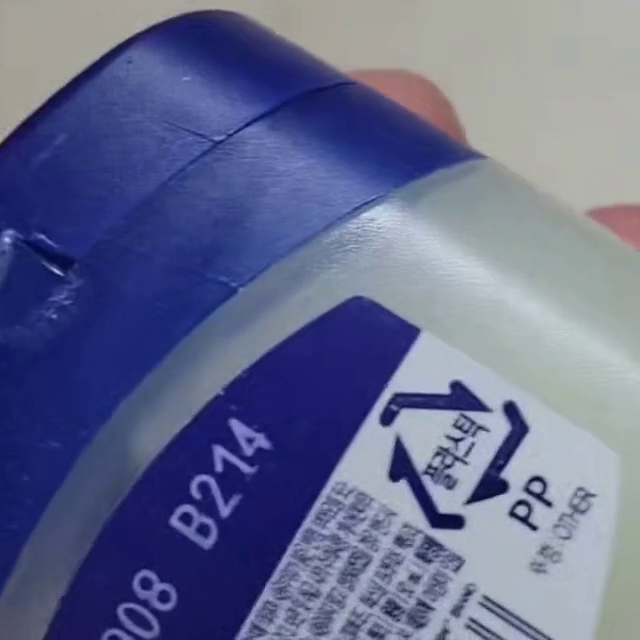Plastic: (379, 380, 530, 531)
